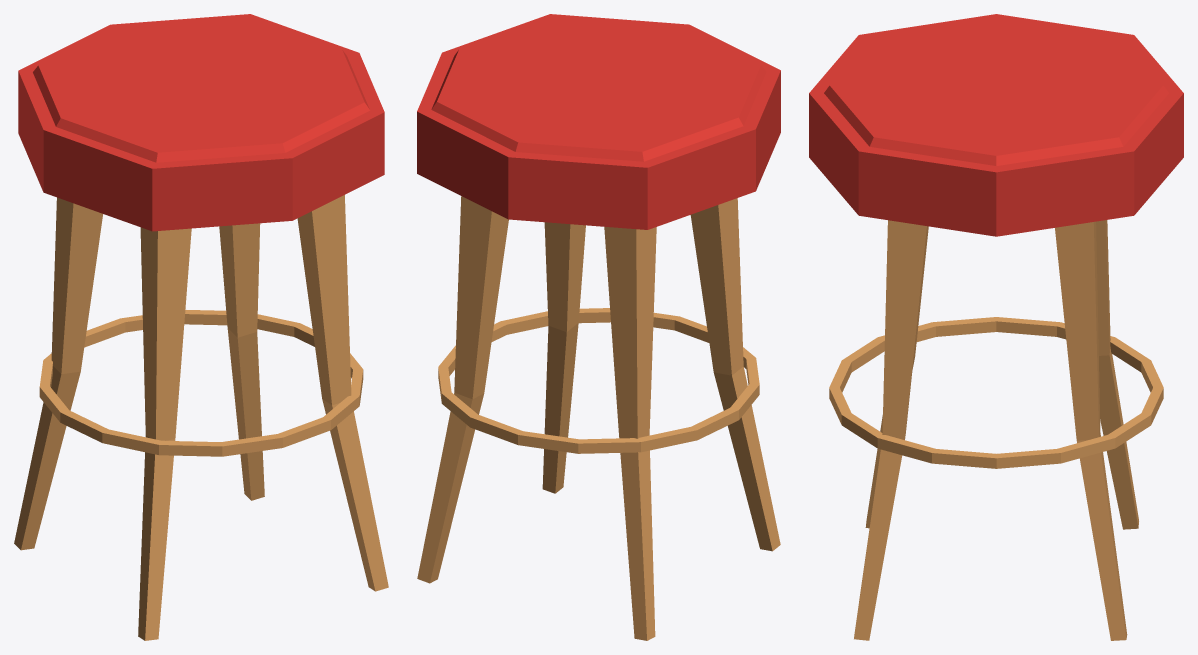
Rendered from C_Chaise_002.fbx.
3 views of the same model, side by side, from view 1: azimuth 30°, elevation 25°; view 2: azimuth 150°, elevation 25°; view 3: azimuth 270°, elevation 25° (orthographic). The views are drawn at different scales.
Visible parts, largest first — view 1: C_Chaise_001.003; view 2: C_Chaise_001.003; view 3: C_Chaise_001.003.
Boxes of the visible parts, x1=… form: C_Chaise_001.003: x1=14, y1=14, x2=388, y2=640; C_Chaise_001.003: x1=417, y1=14, x2=780, y2=640; C_Chaise_001.003: x1=809, y1=14, x2=1183, y2=640.
Size of the model in its own units: 36.99 by 54.14 by 36.99.
